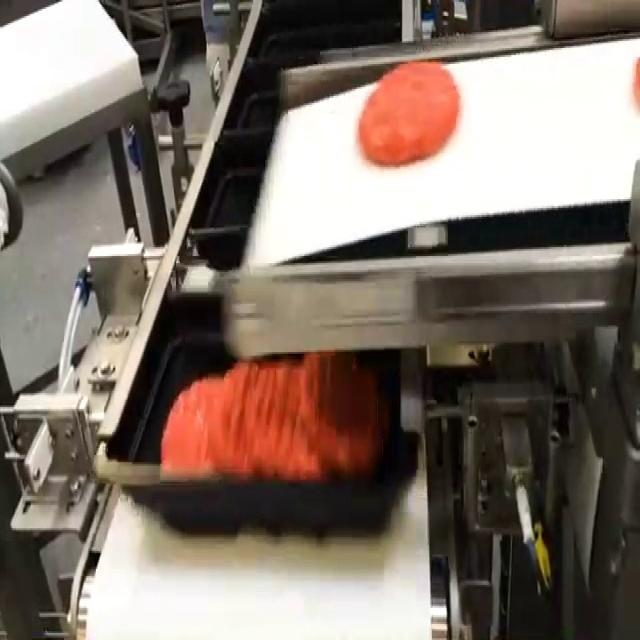4-hamburguer: (160, 354, 389, 480)
